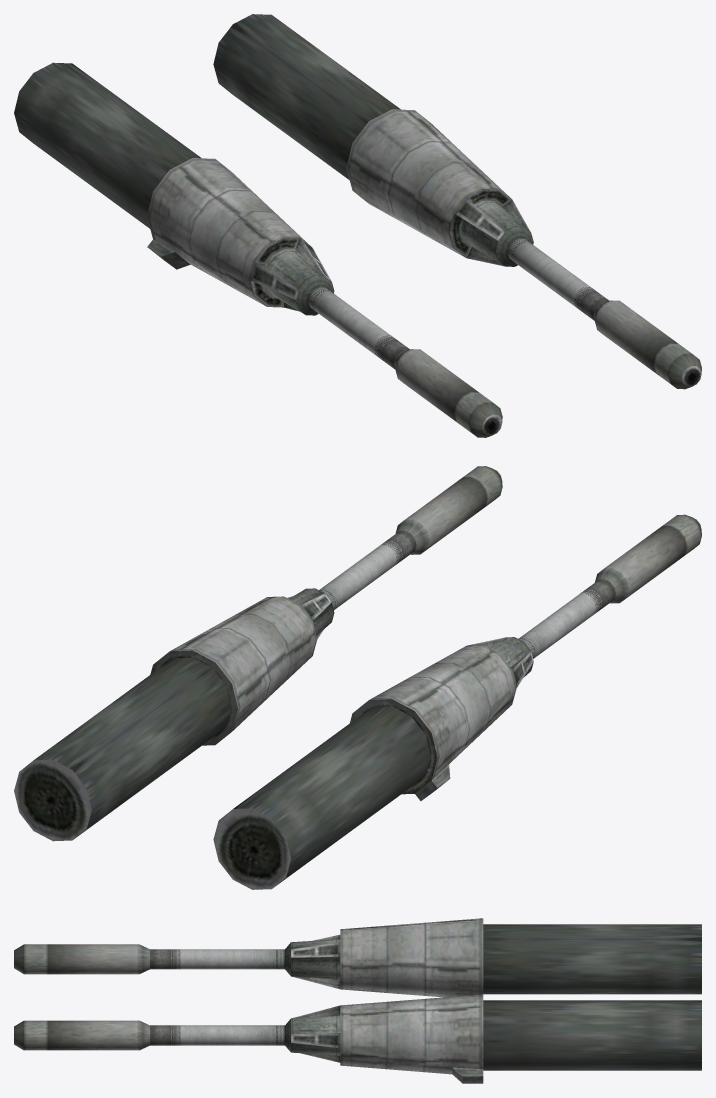
Rendered from bwing_weapon3_s05_l0.fbx.
3 renders of one model, top to bottom at view 1: azimuth 30°, elevation 25°; view 2: azimuth 150°, elevation 25°; view 3: azimuth 270°, elevation 25°, orthographic. The views are drawn at different scales.
Parts seen in each view (by area): view 1: mesh_node; view 2: mesh_node; view 3: mesh_node.
Part boxes in pixels (x1,y1,x2,y2): mesh_node: (14, 14, 701, 437); mesh_node: (14, 466, 701, 889); mesh_node: (14, 918, 701, 1083).
Bounding box in the file's own units: 1.14 × 0.3585 × 2.99.
Materials: 1 (1 with a texture image).
